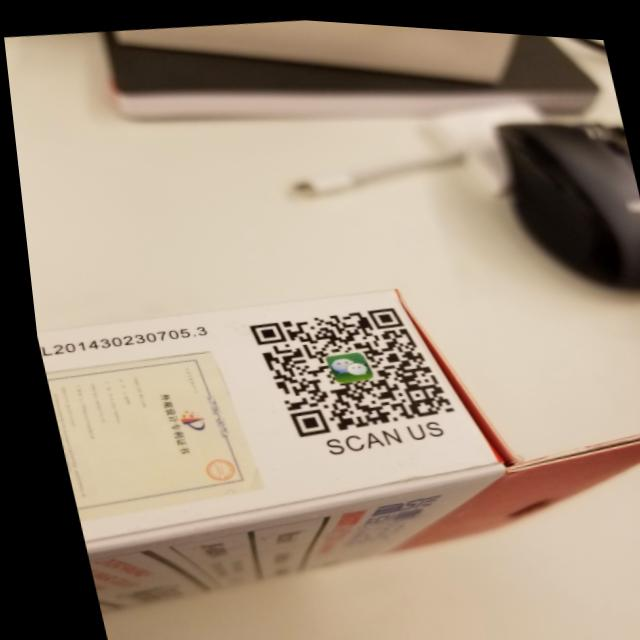QR_CODE: (223, 273, 465, 454)
